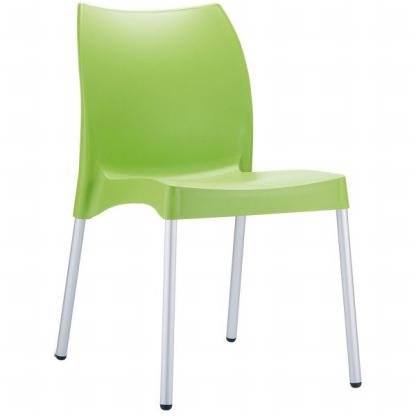chair: (53, 3, 376, 408)
